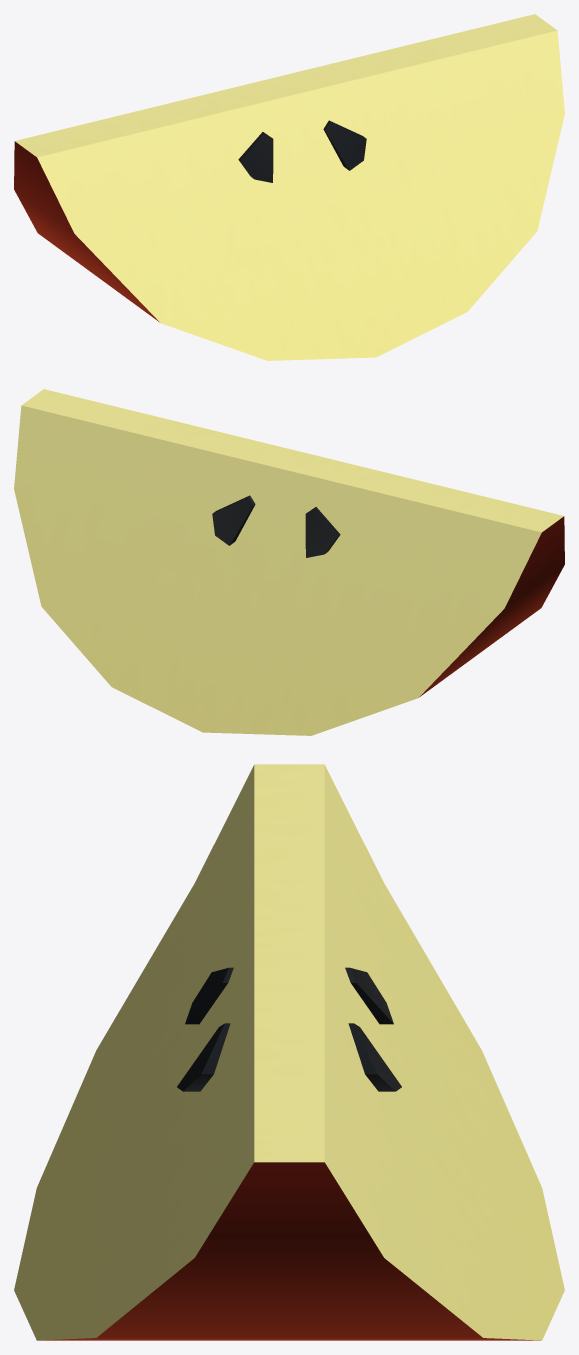
The model's file is apple_slice.fbx.
3 renders of one model, top to bottom at view 1: azimuth 30°, elevation 25°; view 2: azimuth 150°, elevation 25°; view 3: azimuth 270°, elevation 25°, orthographic. The views are drawn at different scales.
Visible parts, largest first — view 1: apple_slice; view 2: apple_slice; view 3: apple_slice.
Part boxes in pixels (bbox=[...]): apple_slice: bbox=[14, 14, 564, 360]; apple_slice: bbox=[14, 389, 564, 735]; apple_slice: bbox=[14, 764, 564, 1340].
Bounding box in the file's own units: 17.01 × 6.49 × 9.96.
